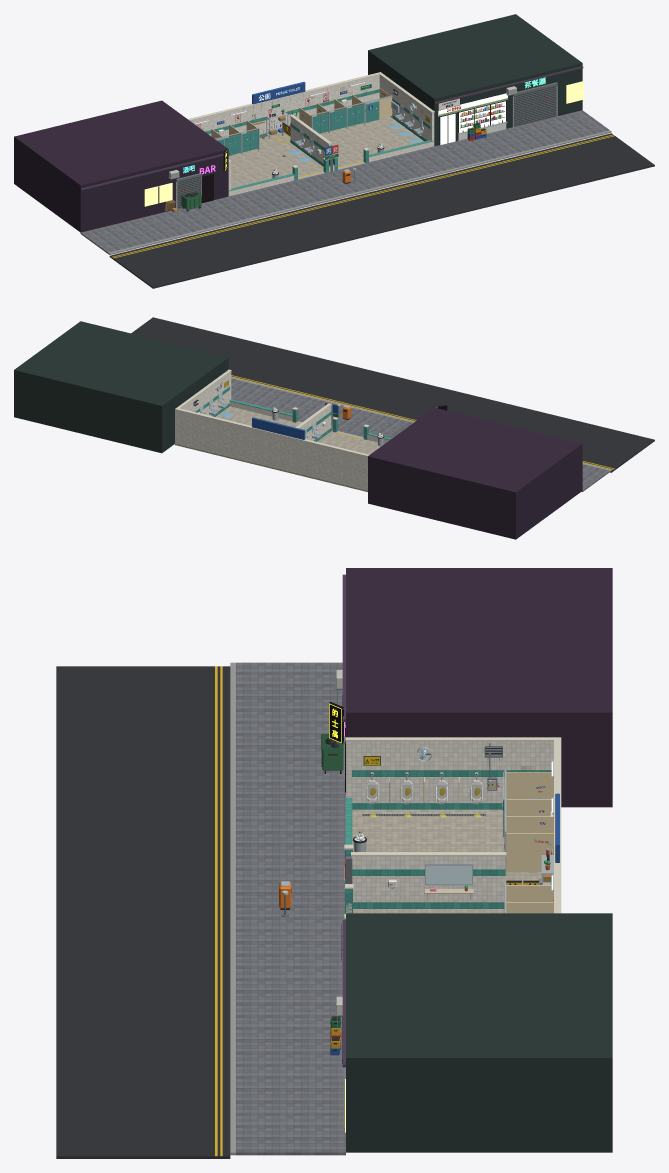
The model's file is level_split.glb.
3 views of the same model, one above another, from view 1: azimuth 30°, elevation 25°; view 2: azimuth 150°, elevation 25°; view 3: azimuth 270°, elevation 25° (orthographic). The views are drawn at different scales.
Parts seen in each view (by area): view 1: neighbours, street, walls, floor, decor, stall_partitions, signage, supply; view 2: neighbours, street, walls, floor, signage, decor; view 3: street, neighbours, walls, floor, stall_partitions, decor.
Part boxes in pixels (bbox=[...]): neighbours: bbox=[14, 14, 583, 232]; street: bbox=[80, 110, 654, 288]; walls: bbox=[188, 72, 434, 196]; floor: bbox=[228, 112, 423, 188]; decor: bbox=[181, 81, 429, 211]; stall_partitions: bbox=[211, 88, 392, 154]; signage: bbox=[252, 82, 338, 171]; supply: bbox=[266, 103, 288, 138]; neighbours: bbox=[14, 321, 583, 539]; street: bbox=[131, 317, 654, 491]; walls: bbox=[175, 369, 391, 490]; floor: bbox=[175, 406, 383, 491]; signage: bbox=[252, 402, 338, 439]; decor: bbox=[193, 380, 384, 446]; street: bbox=[56, 662, 345, 1158]; neighbours: bbox=[329, 568, 612, 1152]; walls: bbox=[344, 737, 561, 919]; floor: bbox=[352, 809, 541, 913]; stall_partitions: bbox=[503, 769, 553, 913]; decor: bbox=[279, 734, 553, 916].
Size of the model in its own units: 40.1 by 3.92 by 19.2.
102 materials, 5 textured.
